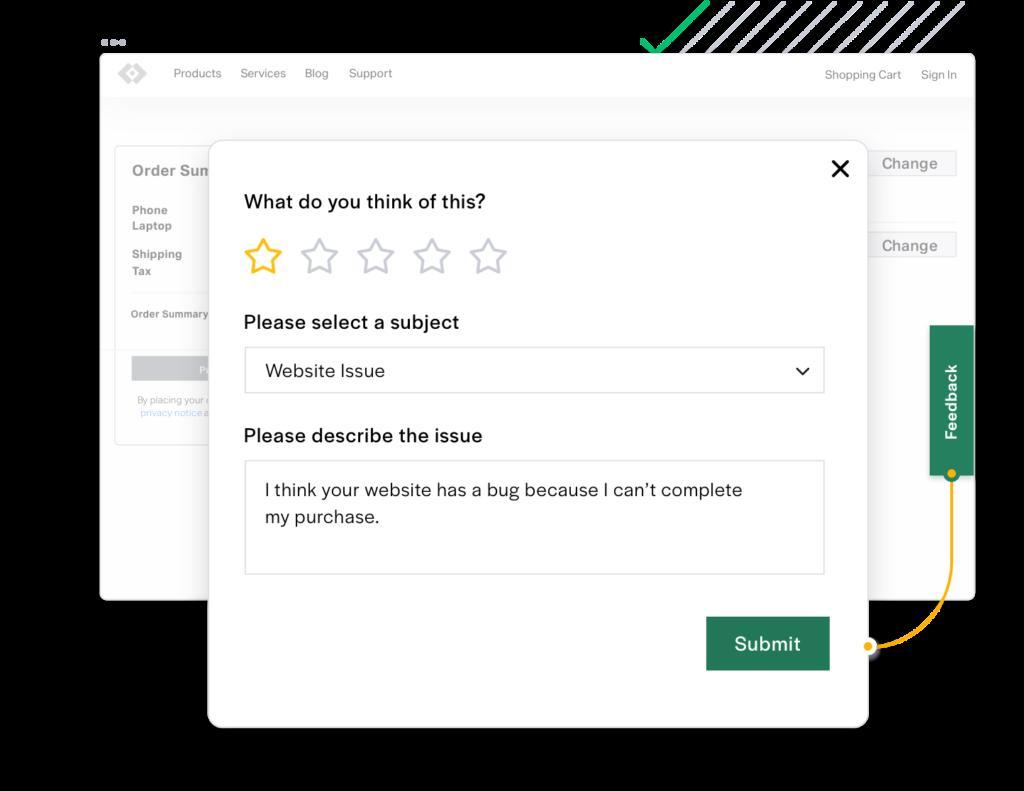button: (709, 617, 832, 672)
dropdown: (245, 352, 828, 394)
icon: (301, 233, 339, 280), (468, 237, 509, 280), (412, 237, 453, 279), (244, 238, 287, 277), (354, 238, 395, 278), (832, 157, 852, 179)
label: (240, 417, 492, 458), (237, 181, 494, 218), (239, 310, 479, 343)
